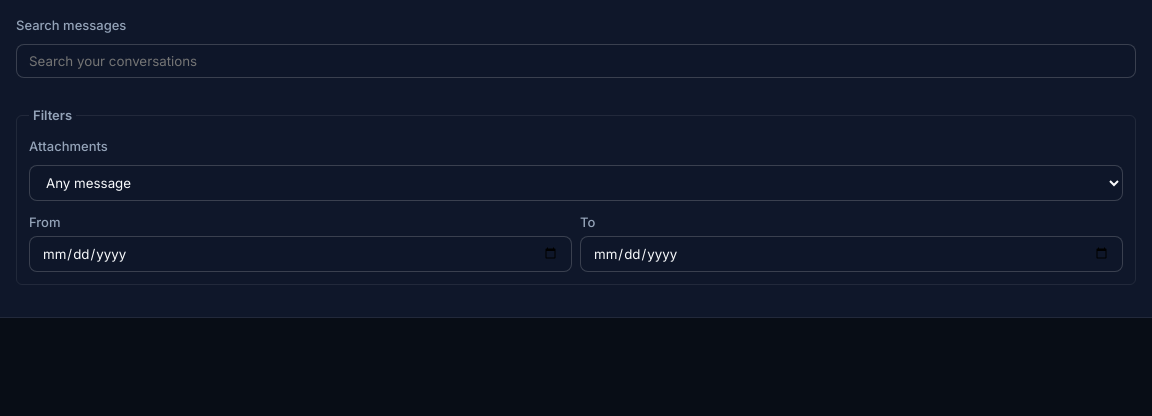
it: out-of-order responses › ignores a slow response that a newer search has superseded
Type "de" into the search field with test id "search-input".
click(576, 60); type("de")  # box [16,44,1136,78]
Wait 300 ms
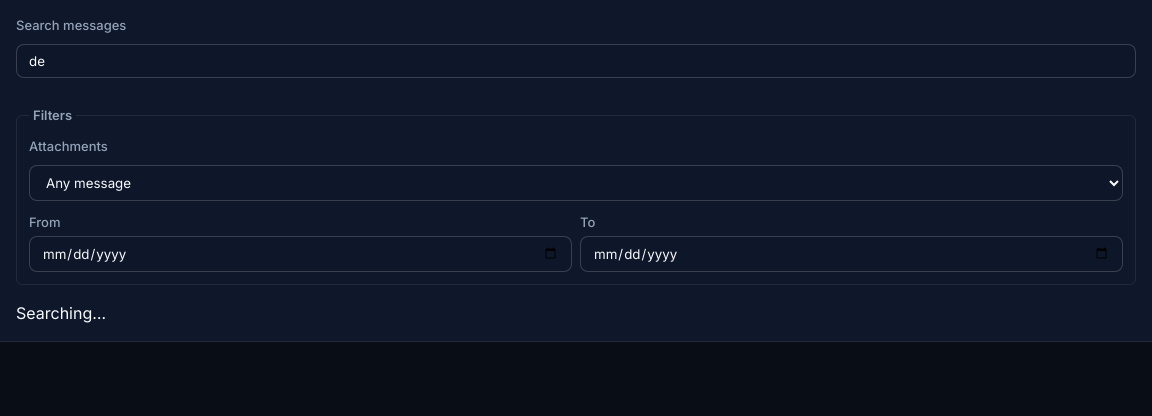
Replace the text in the search field with test id "search-input" with "deployment" at (576, 60), box [16,44,1136,78]
Wait 300 ms
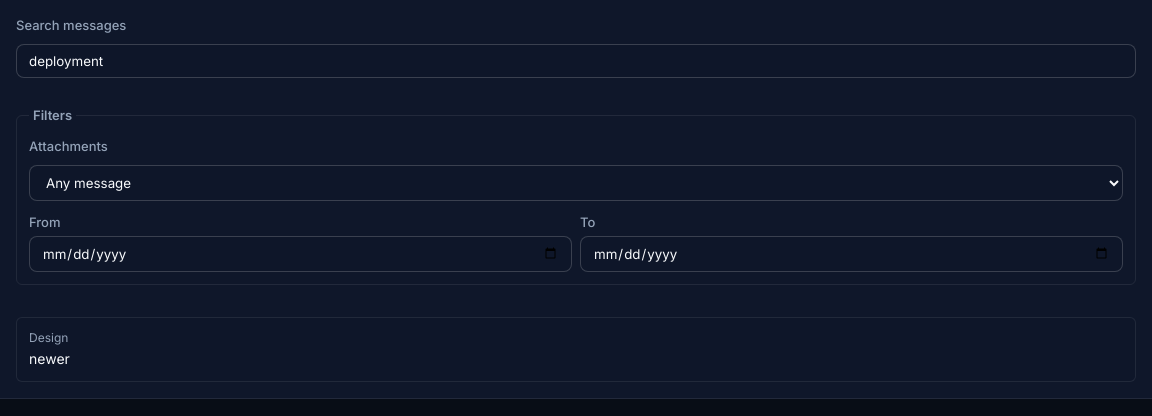
Check: the list with test id "search-results" does not show "stale", box [16,317,1136,382]
Check: the list with test id "search-results" shows "newer", box [16,317,1136,382]
